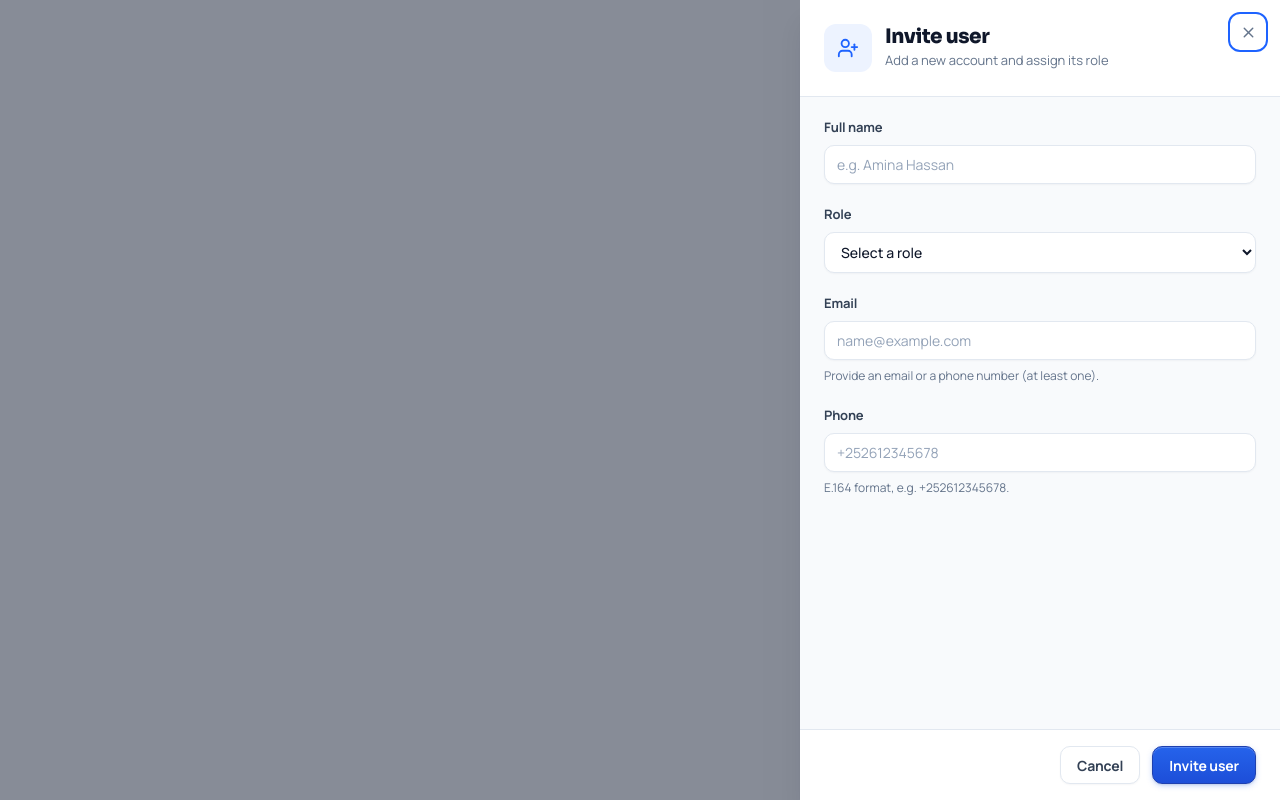
Scenario: InviteUserForm › requires an email or a phone number when both are blank
This screenshot has width=1280, height=800.
Type "Amina Hassan" into the field with placeholder "e.g. Amina Hassan" at (1040, 165), box [824, 145, 1256, 184]
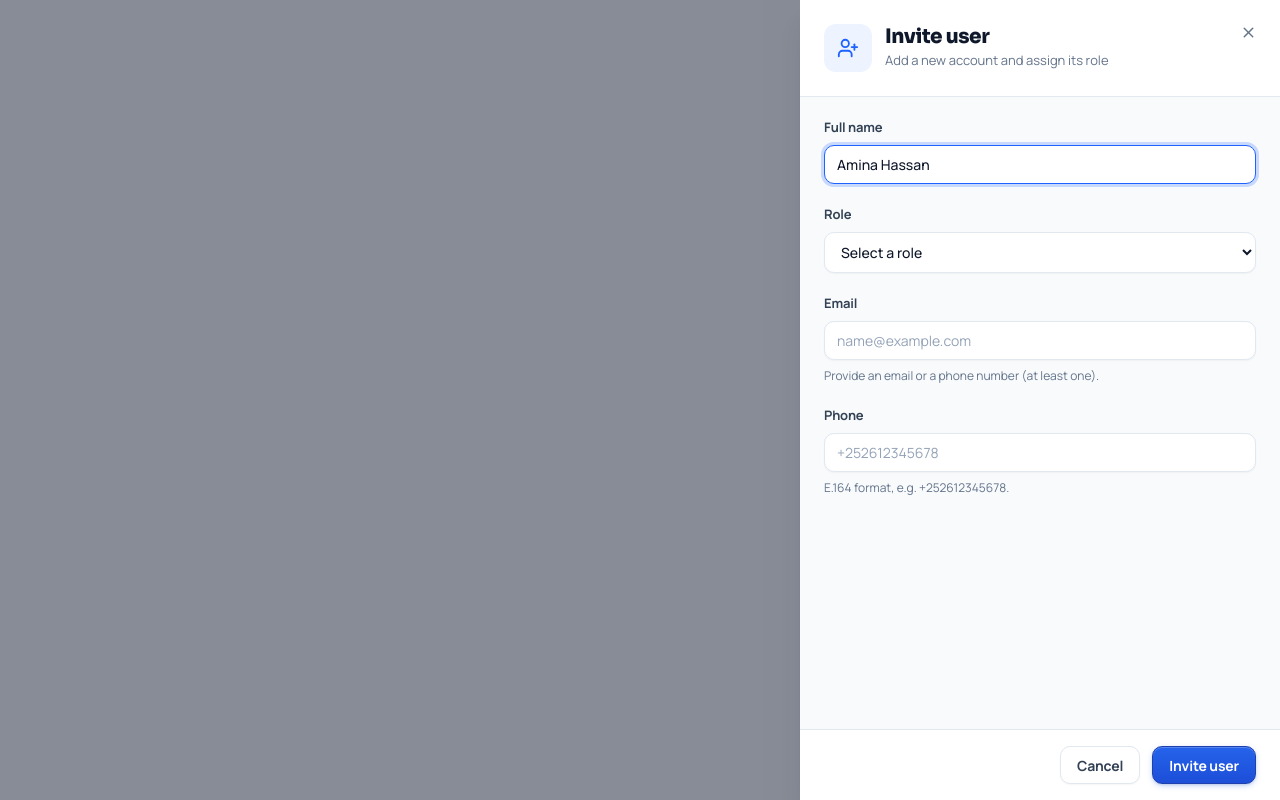
Select "Founder" in the dropdown labelled "Role" at (1040, 253), box [824, 232, 1256, 273]
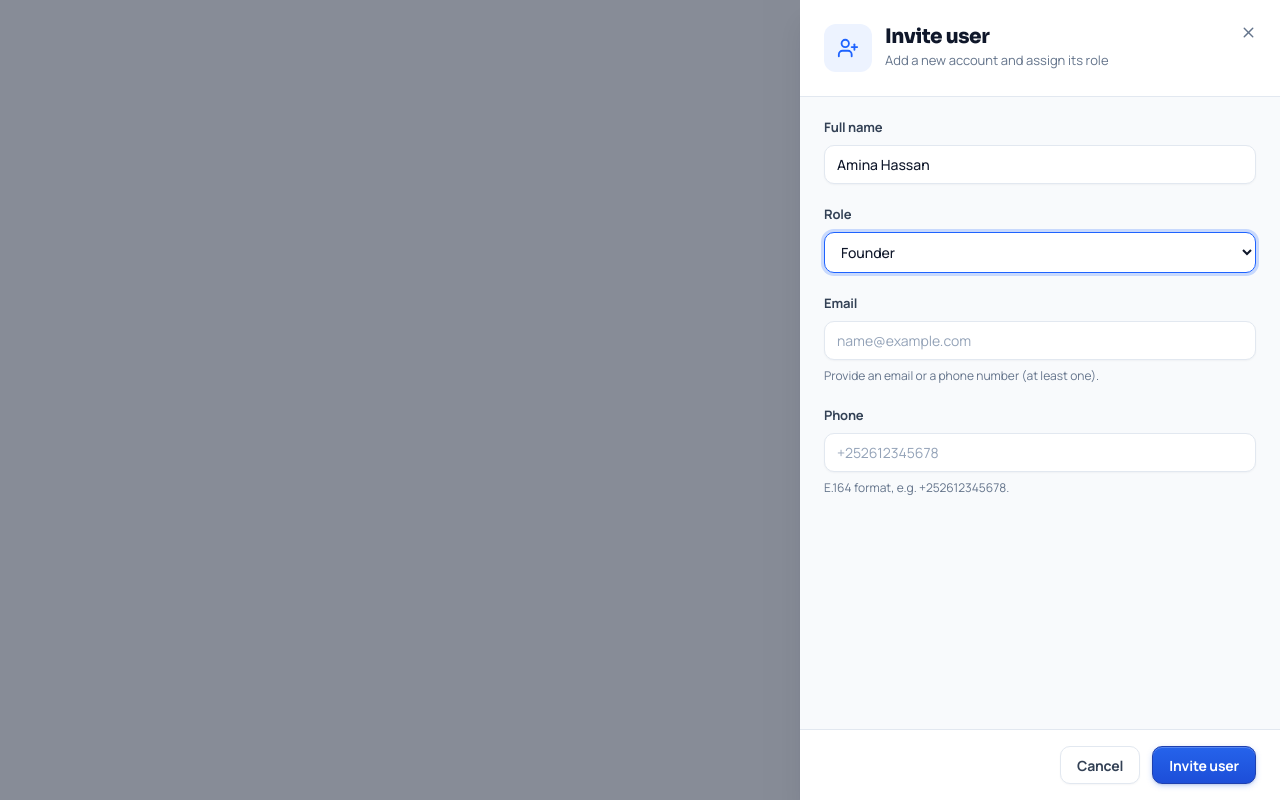
Click the button "Invite user" at (1204, 765), box [1152, 746, 1256, 784]
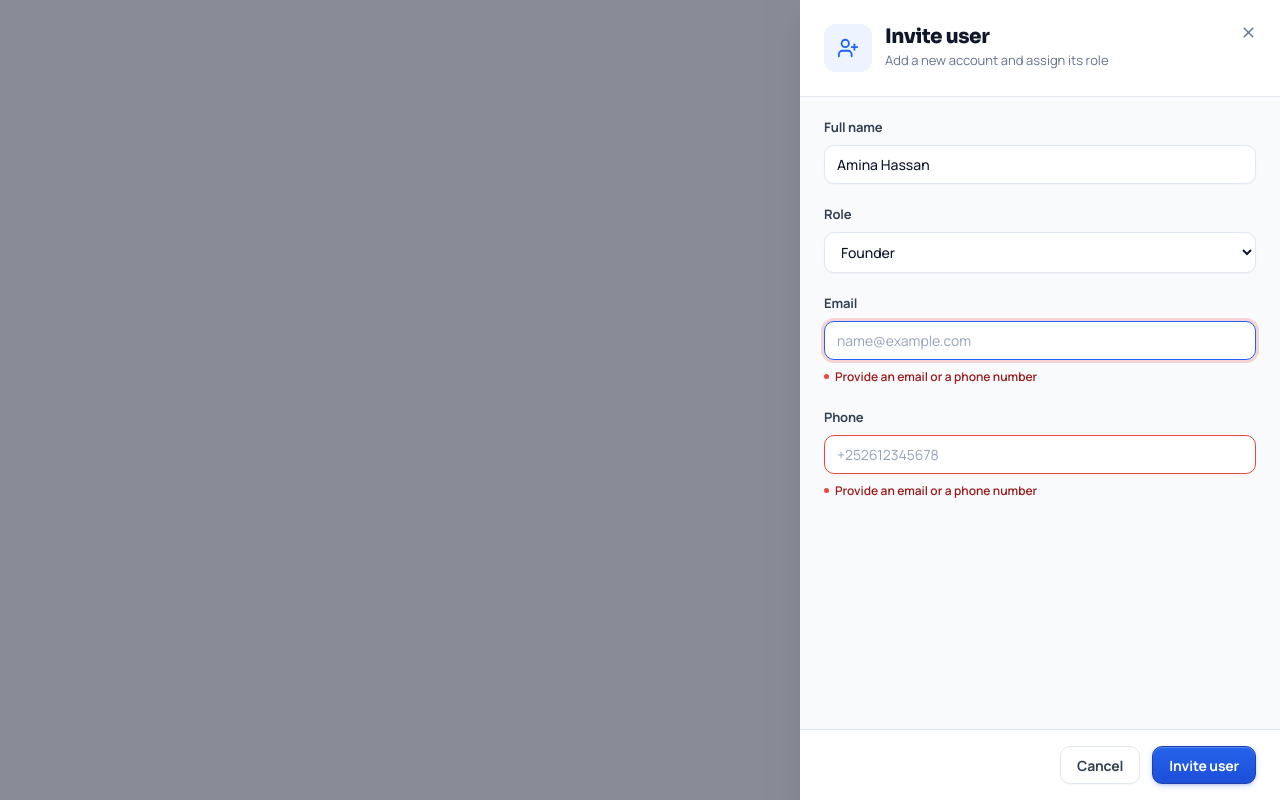
Expected: the text "Provide an email or a phone number" is shown 2 times, [835, 368, 1037, 385]; [835, 482, 1037, 499]
